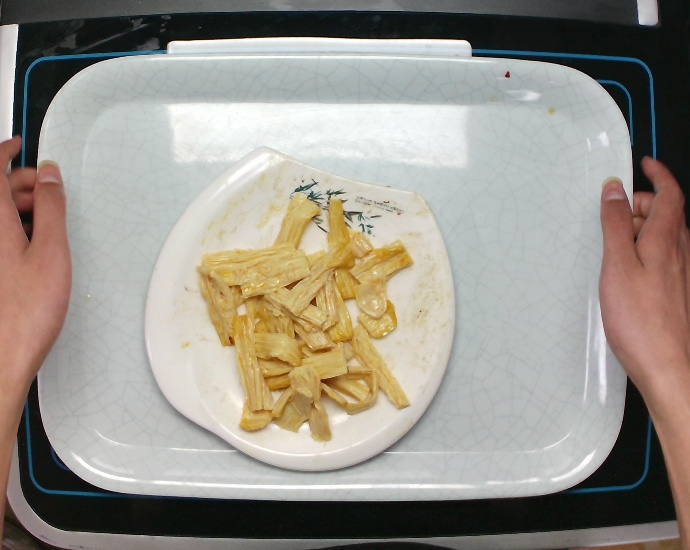JYsf-Mian_Pan: (137, 142, 463, 477)
